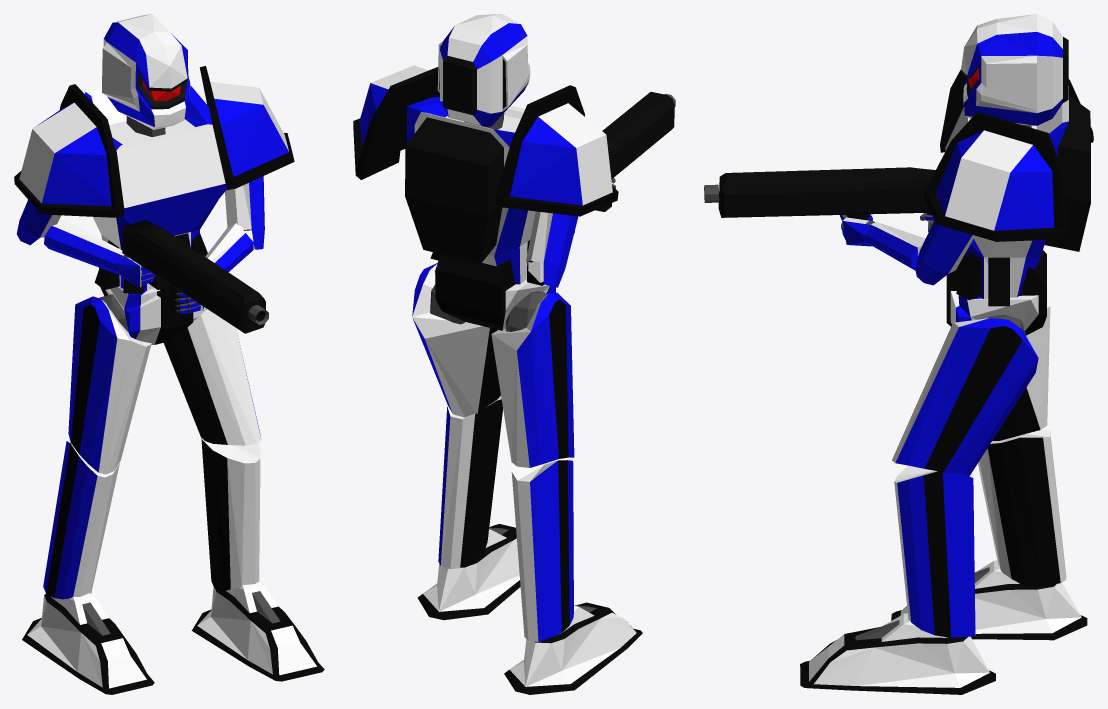
Rendered from robots_000016.obj.
3 renders of one model, left to right at view 1: azimuth 30°, elevation 25°; view 2: azimuth 150°, elevation 25°; view 3: azimuth 270°, elevation 25°, orthographic. The views are drawn at different scales.
Parts seen in each view (by area): view 1: Chest_plate_Cube.004, R_Thigh_Cube.005, Cube.002_Cube.059, R_Thigh.002_Cube.027, Head_base_Cube.022, R_Shin.002_Cube.029, R_Foot_Cube, R_Foot.002_Cube.035, R_Shin_Cube.007, Cube_Cube.001, Cube_Cube.021, Pelvis_Cube.006 (+5 smaller); view 2: Chest_plate_Cube.004, Cube.002_Cube.059, R_Thigh_Cube.005, R_Shin_Cube.007, Head_base_Cube.022, R_Shin.002_Cube.029, R_Foot_Cube, R_Thigh.002_Cube.027, R_Foot.002_Cube.035, Cube_Cube.021, Pelvis_Cube.006, Cube_Cube.001 (+2 smaller); view 3: Cube_Cube.021, R_Thigh.002_Cube.027, R_Shin.002_Cube.029, R_Foot.002_Cube.035, R_Shin_Cube.007, Head_base_Cube.022, Cube_Cube.001, Chest_plate_Cube.004, R_Foot_Cube, Pelvis_Cube.006, R_Thigh_Cube.005, L_Arm_Cube.014 (+3 smaller).
Boxes of the visible parts, x1,y1,x2,y2 form: Chest_plate_Cube.004: (84,85,226,294); R_Thigh_Cube.005: (68,296,151,474); Cube.002_Cube.059: (14,84,124,217); R_Thigh.002_Cube.027: (164,308,261,445); Head_base_Cube.022: (102,14,190,129); R_Shin.002_Cube.029: (201,438,260,591); R_Foot_Cube: (22,593,154,694); R_Foot.002_Cube.035: (191,581,324,681); R_Shin_Cube.007: (43,441,119,599); Cube_Cube.001: (122,220,268,333); Cube_Cube.021: (199,66,294,190); Pelvis_Cube.006: (99,267,205,344); Chest_plate_Cube.004: (405,96,543,285); Cube.002_Cube.059: (495,85,618,216); R_Thigh_Cube.005: (491,292,574,467); R_Shin_Cube.007: (511,460,573,641); Head_base_Cube.022: (437,14,530,126); R_Shin.002_Cube.029: (438,396,502,569); R_Foot_Cube: (504,602,642,694); R_Thigh.002_Cube.027: (412,263,500,417); R_Foot.002_Cube.035: (417,524,520,620); Cube_Cube.021: (353,65,439,179); Pelvis_Cube.006: (434,254,555,330); Cube_Cube.001: (595,92,675,211); Cube_Cube.021: (924,112,1067,241); R_Thigh.002_Cube.027: (892,318,1038,476); R_Shin.002_Cube.029: (894,465,975,637); R_Foot.002_Cube.035: (800,613,995,694); R_Shin_Cube.007: (978,426,1066,586); Head_base_Cube.022: (961,14,1068,125); Cube_Cube.001: (704,167,935,221); Chest_plate_Cube.004: (945,86,1090,306); R_Foot_Cube: (891,560,1087,640); Pelvis_Cube.006: (946,250,1046,335); R_Thigh_Cube.005: (992,297,1050,440); L_Arm_Cube.014: (915,220,974,285).
Size of the model in its own units: 1.32 by 3.04 by 1.68.
